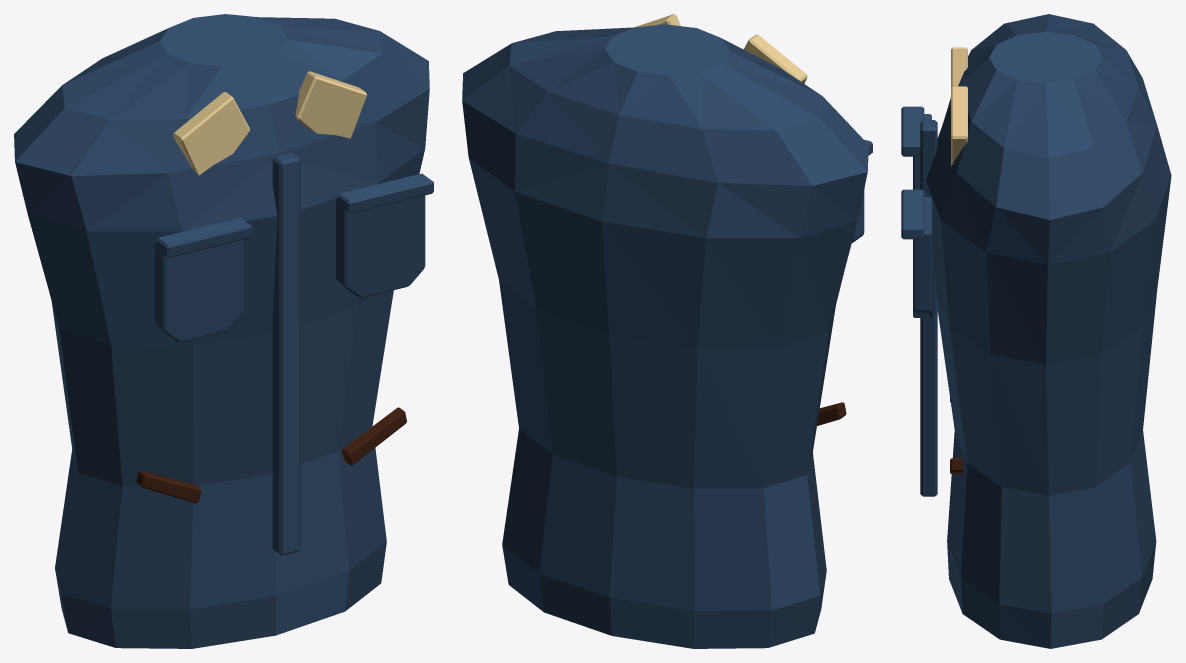
File: EP_Torso_WorkJacket.fbx
The picture shows the model from 3 angles, left to right: view 1: azimuth 30°, elevation 25°; view 2: azimuth 150°, elevation 25°; view 3: azimuth 270°, elevation 25°; orthographic projection. The views are drawn at different scales.
Visible parts, largest first — view 1: EP_Torso_WorkJacket; view 2: EP_Torso_WorkJacket; view 3: EP_Torso_WorkJacket.
Part boxes in pixels (<box>): EP_Torso_WorkJacket: <box>14,14,433,648</box>; EP_Torso_WorkJacket: <box>462,14,872,648</box>; EP_Torso_WorkJacket: <box>901,14,1171,648</box>.
Bounding box in the file's own units: 0.47 × 0.605 × 0.284.
